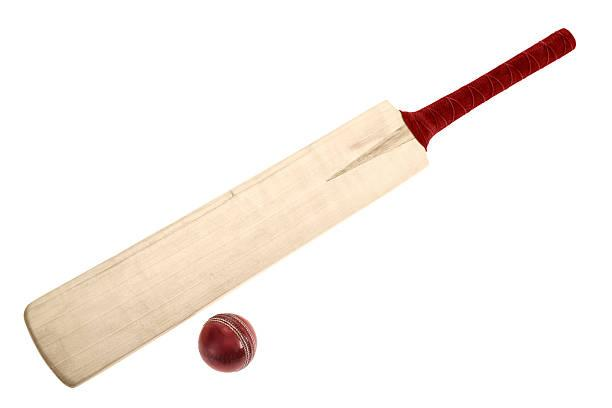non-mango: (197, 312, 257, 372)
